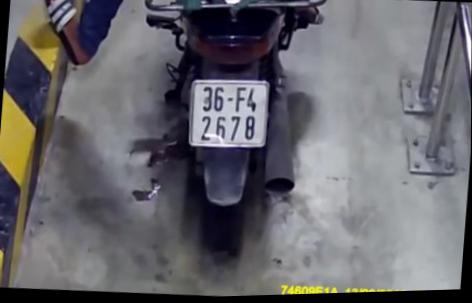LP: (187, 77, 273, 152)
